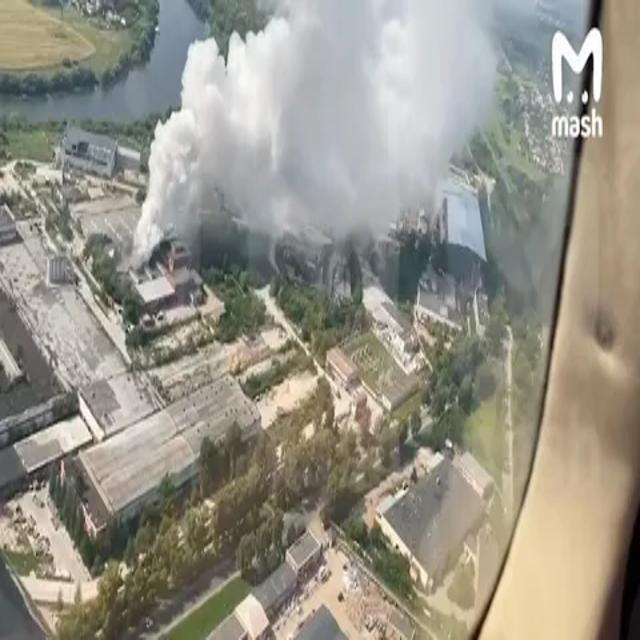Smoke: (129, 2, 493, 264)
